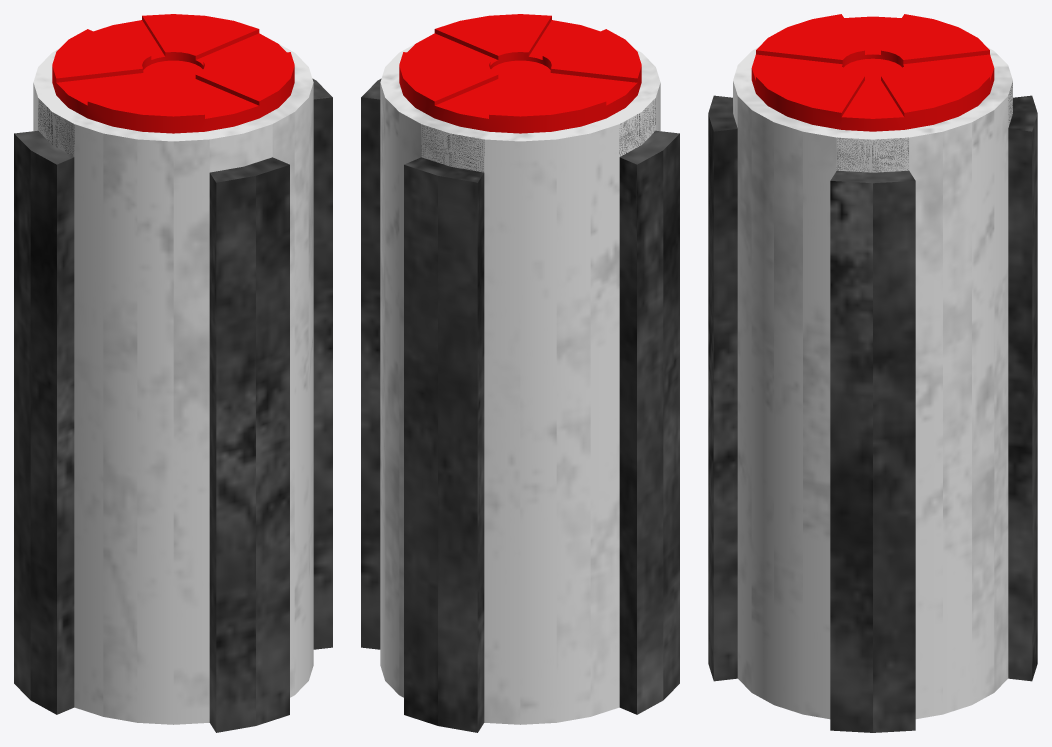
The picture shows the model from 3 angles, left to right: view 1: azimuth 30°, elevation 25°; view 2: azimuth 150°, elevation 25°; view 3: azimuth 270°, elevation 25°; orthographic projection.
Visible parts, largest first — view 1: SketchUp (×7); view 2: SketchUp (×7); view 3: SketchUp (×6).
Boxes of the visible parts, left/top/right/bottom form: SketchUp (×7): left=14, top=14, right=332, bottom=732; SketchUp (×7): left=361, top=14, right=679, bottom=732; SketchUp (×6): left=708, top=14, right=1037, bottom=732.
Size of the model in its own units: 11.82 by 11.82 by 23.74.
Materials: 3 (2 with a texture image).
